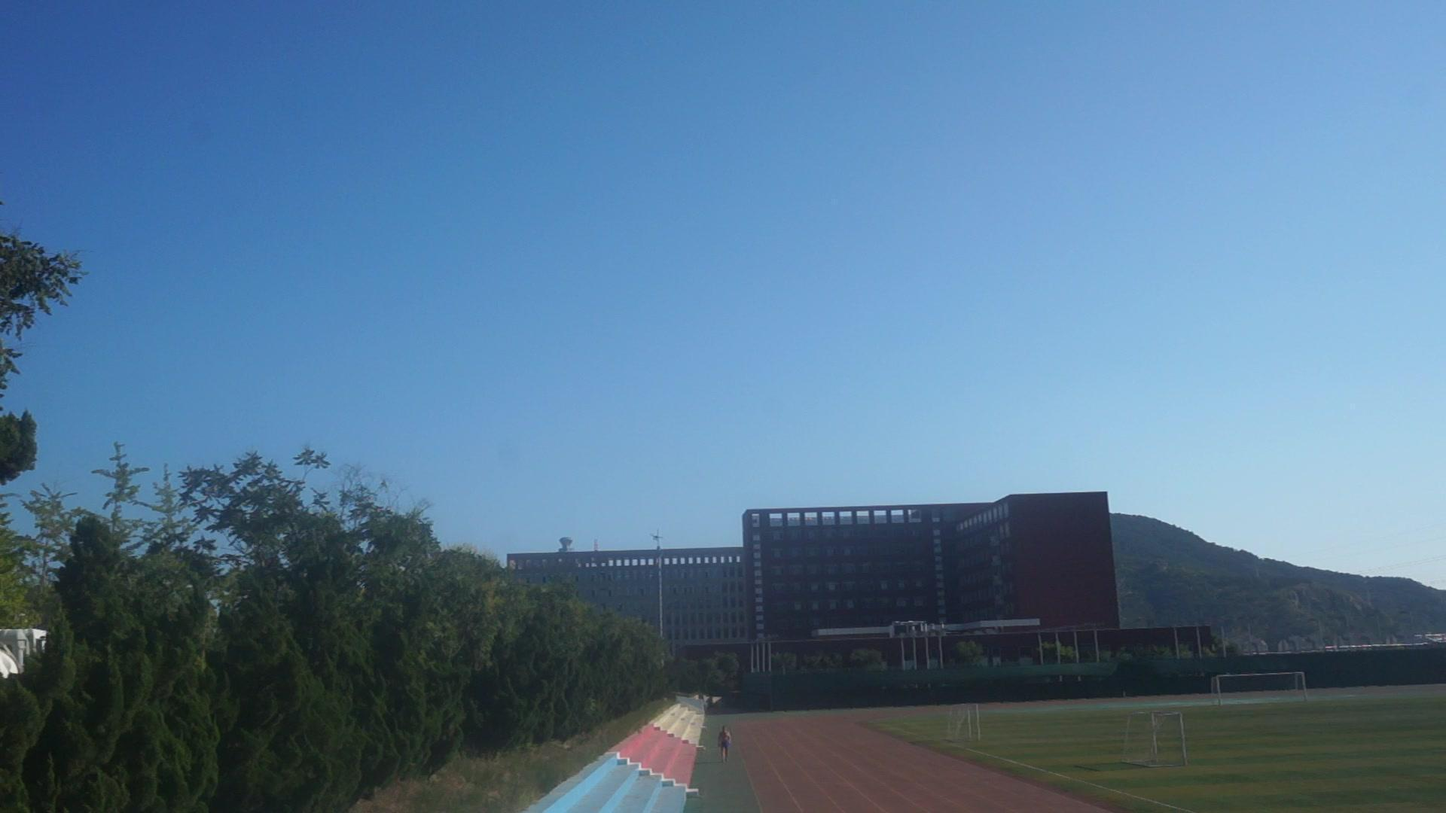UAV: (651, 534, 664, 541)
